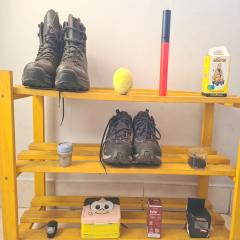bola: (112, 68, 133, 95)
bomba: (159, 8, 171, 97)
bota1: (21, 9, 92, 92)
bota2: (102, 109, 163, 167)
cx-bike: (187, 197, 210, 239)
cx-ferro: (147, 197, 162, 238)
cx-magali: (81, 197, 121, 239)
cx-minions: (202, 47, 231, 100)
cx-xuxa: (188, 147, 208, 170)
luz: (46, 220, 58, 238)
pote: (57, 141, 73, 168)
